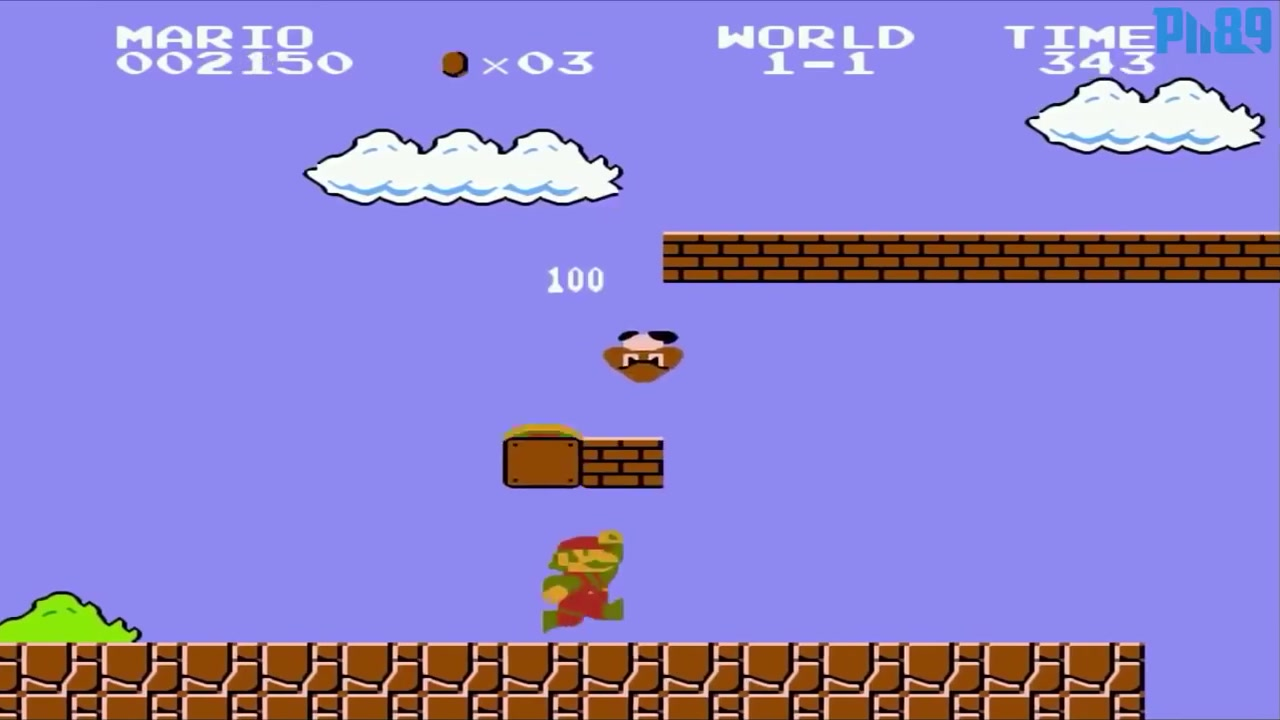mario: (533, 517, 636, 637)
